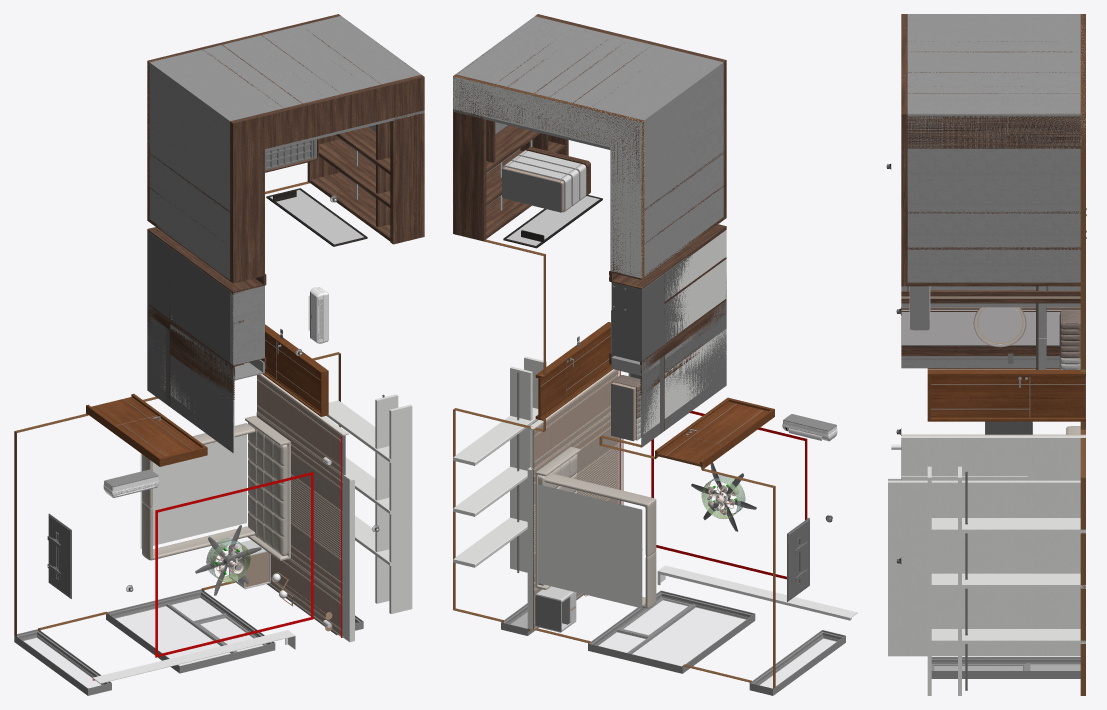
The model's file is master.glb.
3 views of the same model, side by side, from view 1: azimuth 30°, elevation 25°; view 2: azimuth 150°, elevation 25°; view 3: azimuth 270°, elevation 25° (orthographic). The views are drawn at different scales.
Visible parts, largest first — view 1: Groups-035, Component#33, Group 221, Group 370, Group 369, Component#31 (×3), Component#101 (×7), Group 316, Group 321, Component#37, Group 142, Component#51 (×2) (+32 smaller); view 2: Group 370, Groups-035, Component#33, Group 228, Component#31 (×3), Group 368, Group 316, Component#144 (×3), Component#37, Group 633, Component#17, Group 321 (+35 smaller); view 3: Group 370, Group 141, Component#31 (×3), Group 133, Component#144 (×3), Component#33, Component#25, Component#19, Group 328, Group 356, Component#21, Difference (+20 smaller).
Boxes of the visible parts, x1,y1,x2,y2 form: Groups-035: (140,422,287,560); Component#33: (149,45,301,210); Group 221: (230,77,424,281); Group 370: (149,16,420,252); Group 369: (230,74,424,283); Component#31 (×3): (223,16,418,103); Component#101 (×7): (375,394,412,613); Group 316: (147,304,233,452); Group 321: (154,236,229,362); Component#37: (149,154,229,279); Group 142: (291,452,342,582); Component#51 (×2): (257,380,342,629); Group 370: (456,16,723,274); Groups-035: (537,454,656,608); Component#33: (574,45,723,208); Group 228: (453,76,644,278); Component#31 (×3): (457,17,649,102); Group 368: (453,74,643,278); Group 316: (641,300,726,447); Component#144 (×3): (453,407,538,567); Component#37: (644,169,718,276); Group 633: (632,606,746,665); Component#17: (657,401,768,465); Group 321: (644,252,694,358); Group 370: (907,14,1080,282); Group 141: (888,478,1080,656); Component#31 (×3): (907,52,1080,113); Group 133: (901,439,1080,480); Component#144 (×3): (927,518,1085,643); Component#33: (907,14,1080,51); Component#25: (931,376,1085,417); Component#19: (907,113,1080,148); Group 328: (901,307,1080,356); Group 356: (901,289,1080,303); Component#21: (927,370,1085,421); Difference: (1080,15,1085,371).
Size of the model in its own units: 6.1 by 9.86 by 3.12.
71 materials, 20 textured.
